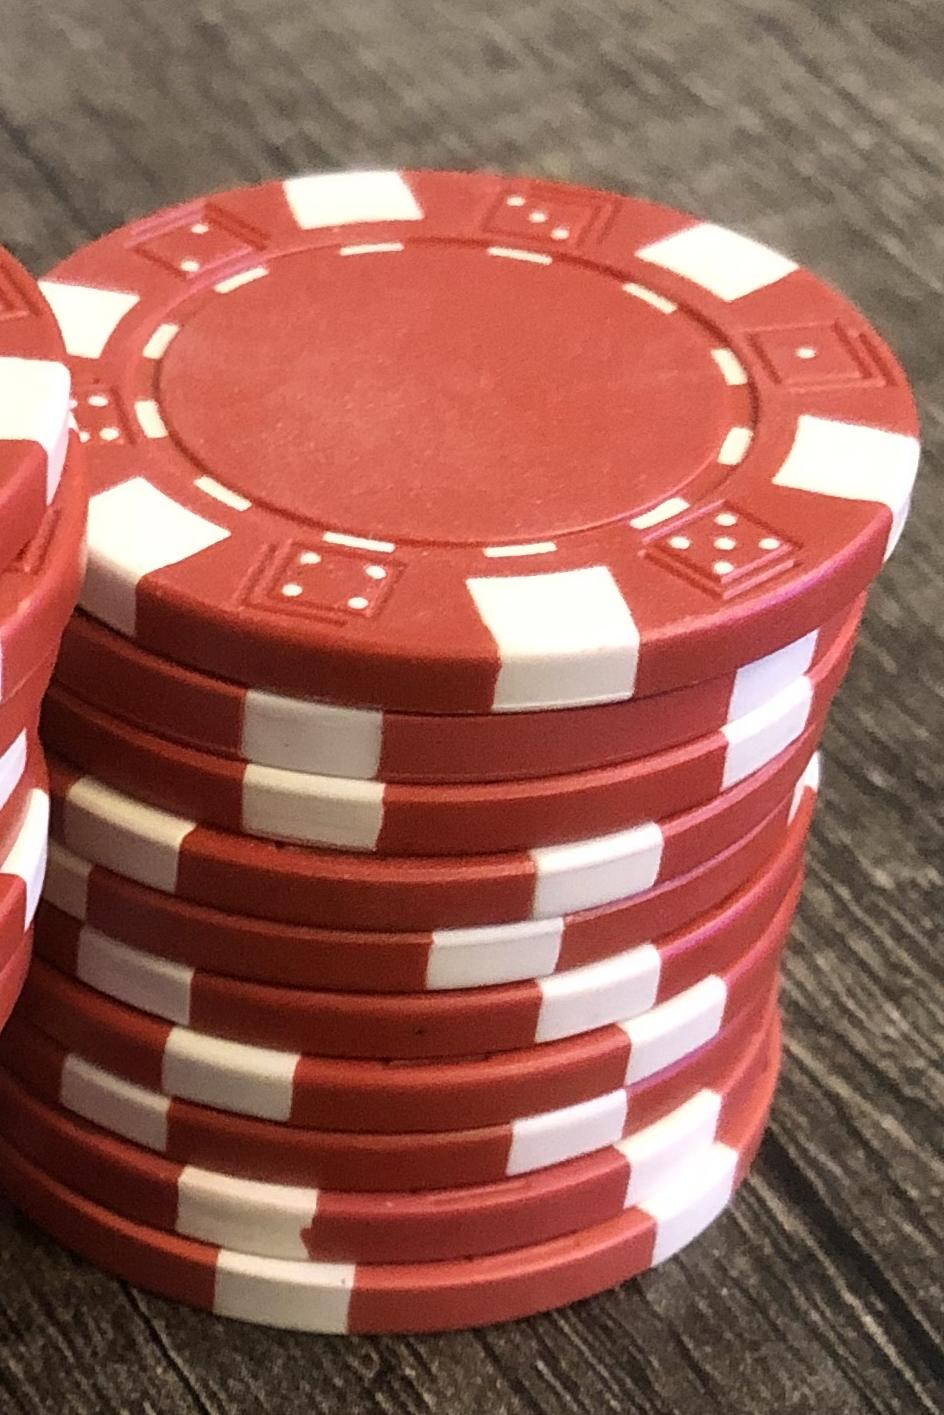Chip: (1, 1, 944, 1415)
